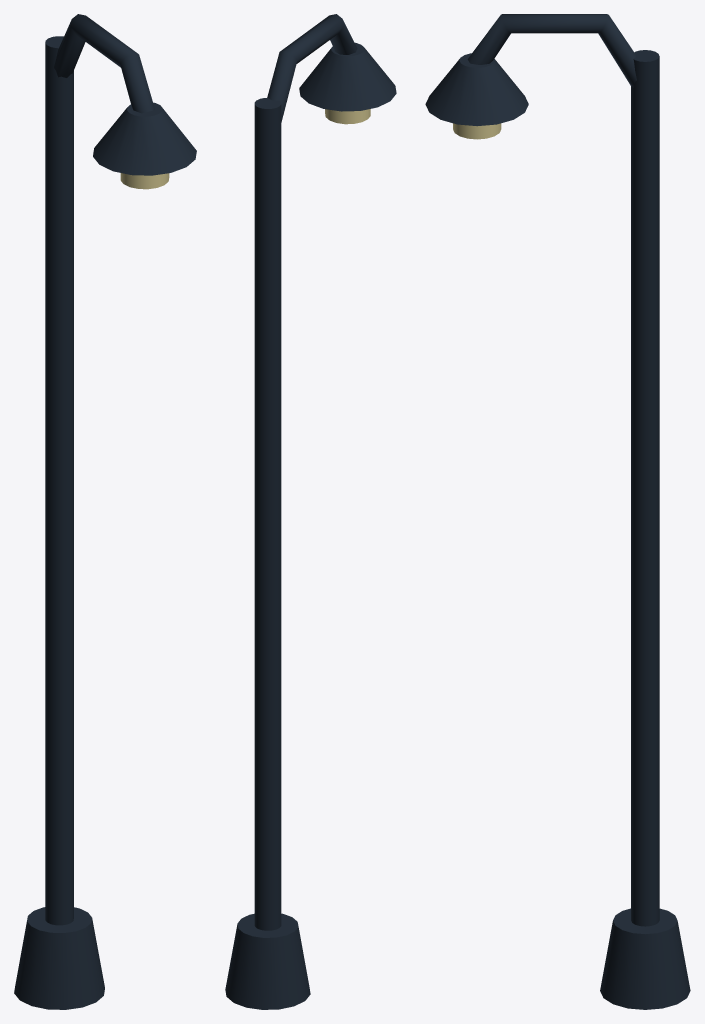
The model's file is lamppost.glb.
3 views of the same model, side by side, from view 1: azimuth 30°, elevation 25°; view 2: azimuth 150°, elevation 25°; view 3: azimuth 270°, elevation 25° (orthographic). The views are drawn at different scales.
Visible parts, largest first — view 1: lamppost_Palette; view 2: lamppost_Palette; view 3: lamppost_Palette.
Boxes of the visible parts, bbox=[...] form: lamppost_Palette: bbox=[14, 14, 196, 1009]; lamppost_Palette: bbox=[225, 14, 396, 1009]; lamppost_Palette: bbox=[425, 14, 690, 1009].
Bounding box in the file's own units: 0.32 × 3.33 × 0.82.
